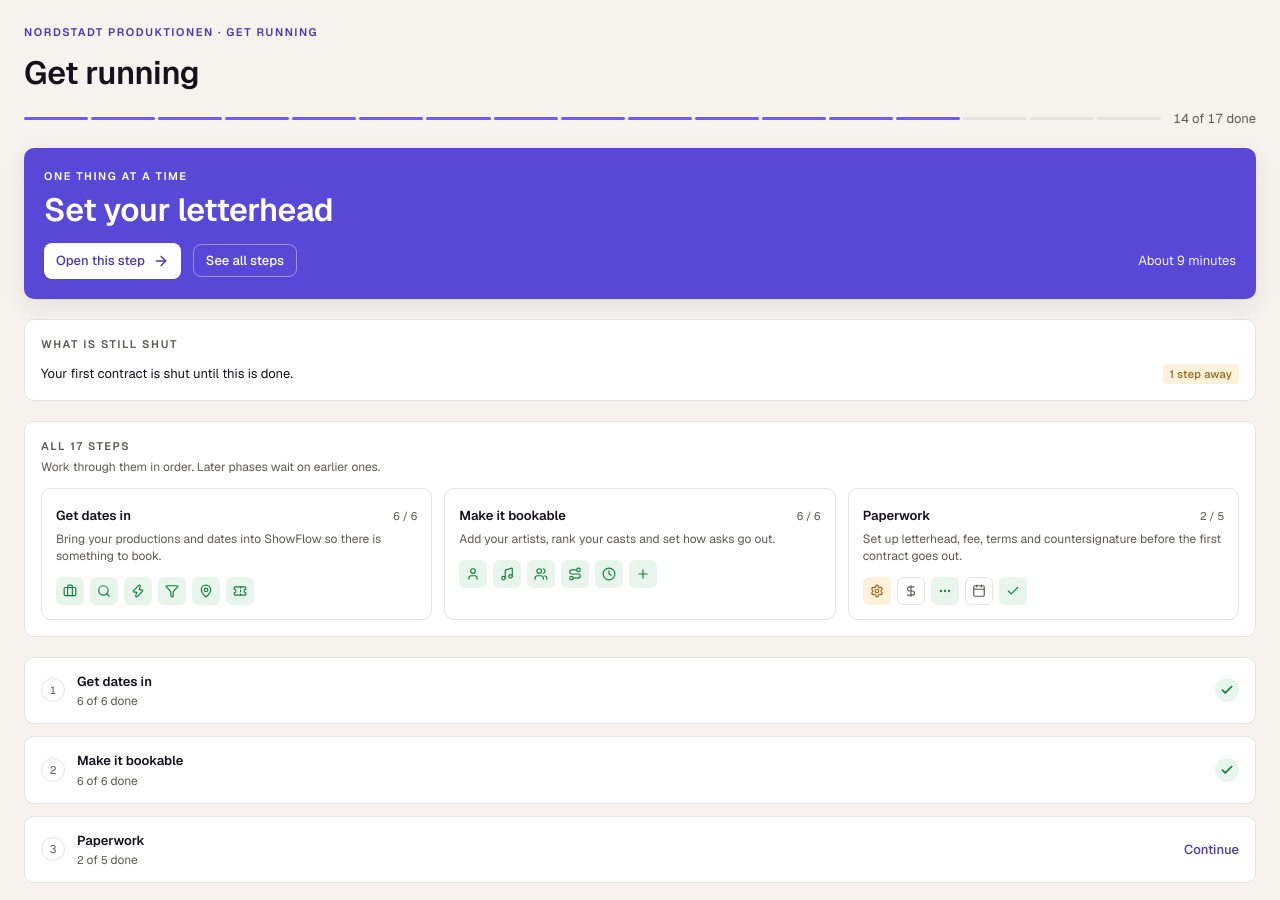
Test: GetRunningBoardV3 › reopens an already-completed phase's wizard when its bar is clicked
Step 1. Click the button with test id "phase-row-get_dates" → (114, 681), box [25,658,1255,723]
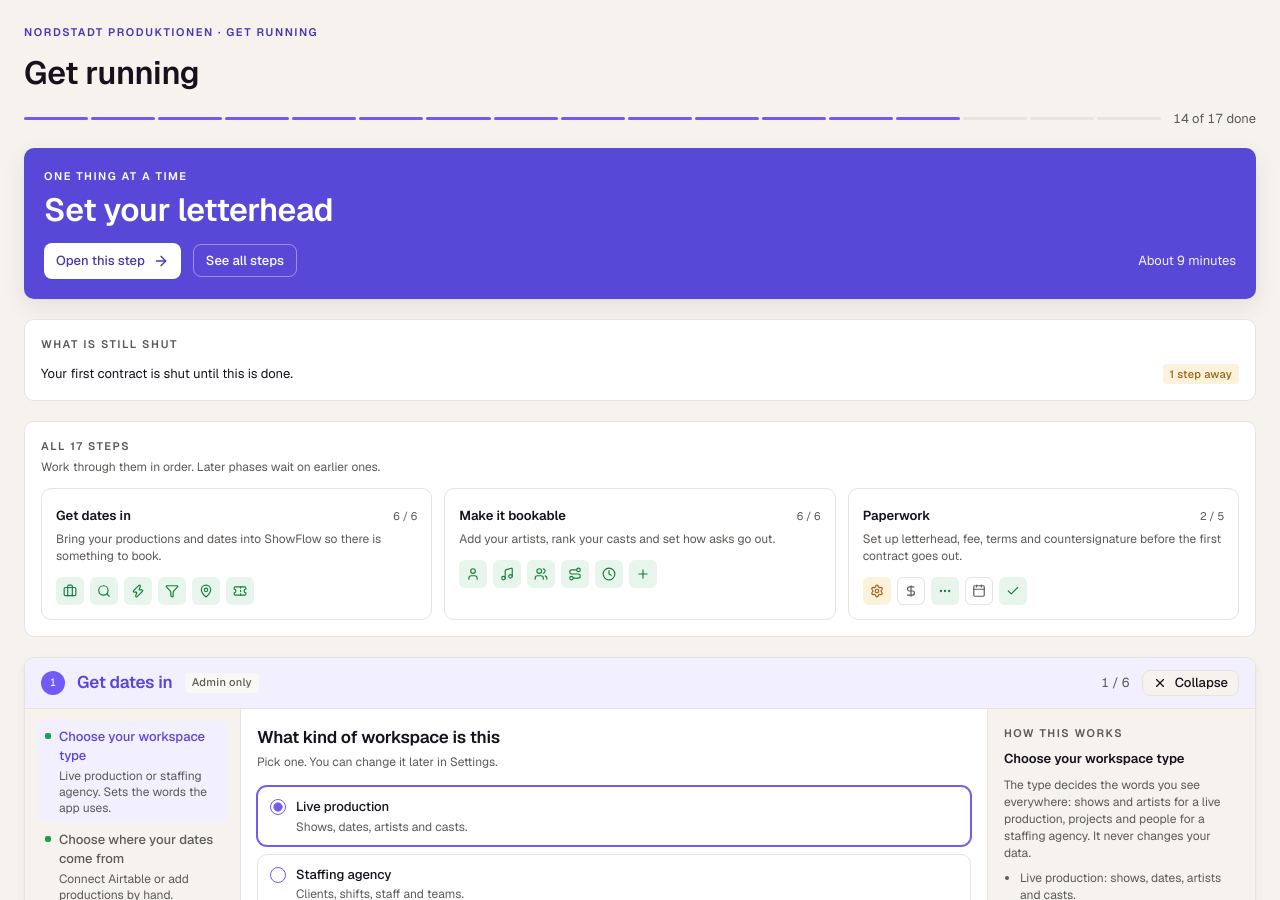
Expected: the button with test id "phase-row-get_dates" is gone
Expected: the button "Collapse" is shown, [1142,670,1239,696]
